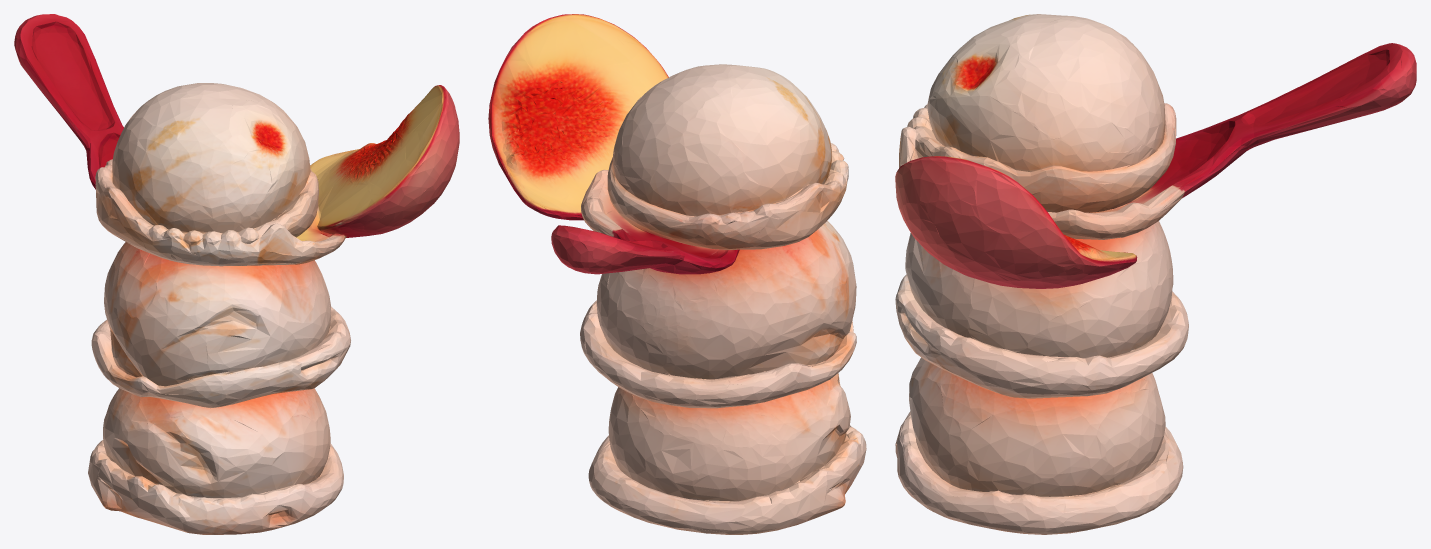
File: Web_IceCream_Peach.obj
The picture shows the model from 3 angles, left to right: view 1: azimuth 30°, elevation 25°; view 2: azimuth 150°, elevation 25°; view 3: azimuth 270°, elevation 25°; orthographic projection. The views are drawn at different scales.
Visible parts, largest first — view 1: Web_IceCream_Peach; view 2: Web_IceCream_Peach; view 3: Web_IceCream_Peach.
Boxes of the visible parts, bbox=[...] form: Web_IceCream_Peach: bbox=[14, 14, 459, 534]; Web_IceCream_Peach: bbox=[488, 14, 866, 534]; Web_IceCream_Peach: bbox=[895, 14, 1416, 534].
Size of the model in its own units: 0.7833 by 0.887 by 0.9326.
1 material, 1 textured.
